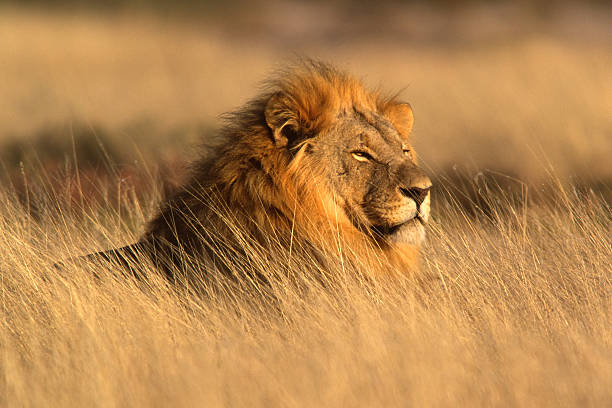lion: (144, 51, 452, 322)
